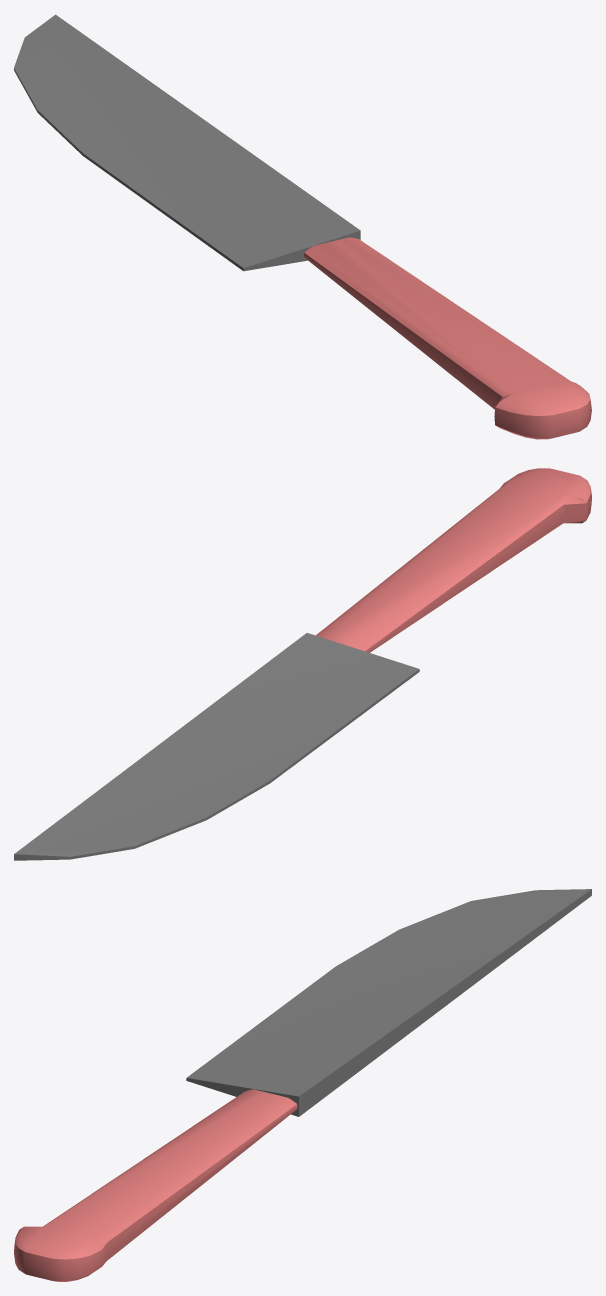
File: SM_couteau.fbx
The picture shows the model from 3 angles, top to bottom: view 1: azimuth 30°, elevation 25°; view 2: azimuth 150°, elevation 25°; view 3: azimuth 330°, elevation 25°; orthographic projection. The views are drawn at different scales.
Visible parts, largest first — view 1: Plane003; view 2: Plane003; view 3: Plane003.
Boxes of the visible parts, x1,y1,x2,y2 form: Plane003: (14, 14, 591, 439); Plane003: (14, 468, 591, 860); Plane003: (14, 889, 591, 1281).
Size of the model in its own units: 4.8 by 1.09 by 35.31.
